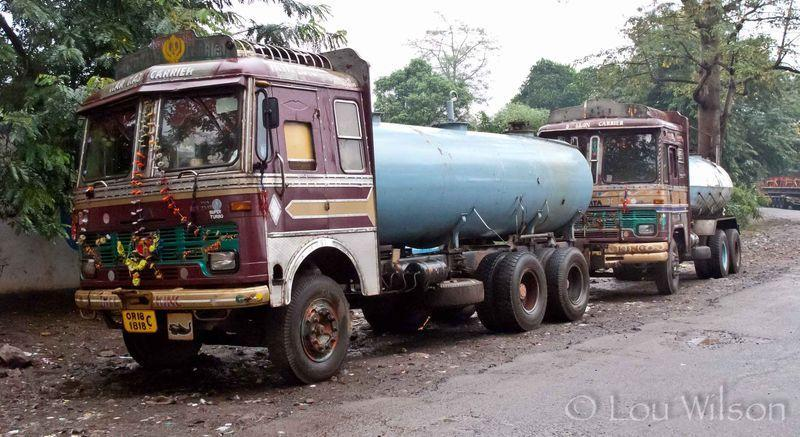truck: (72, 59, 669, 331)
